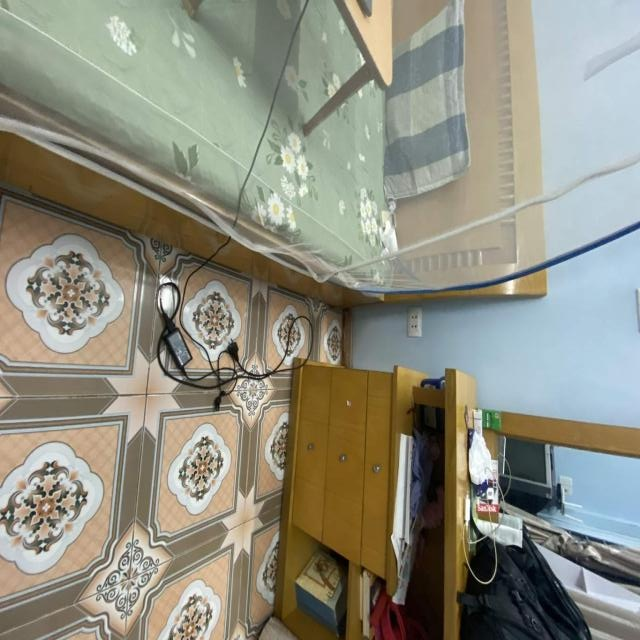outlet: (407, 307, 422, 337)
